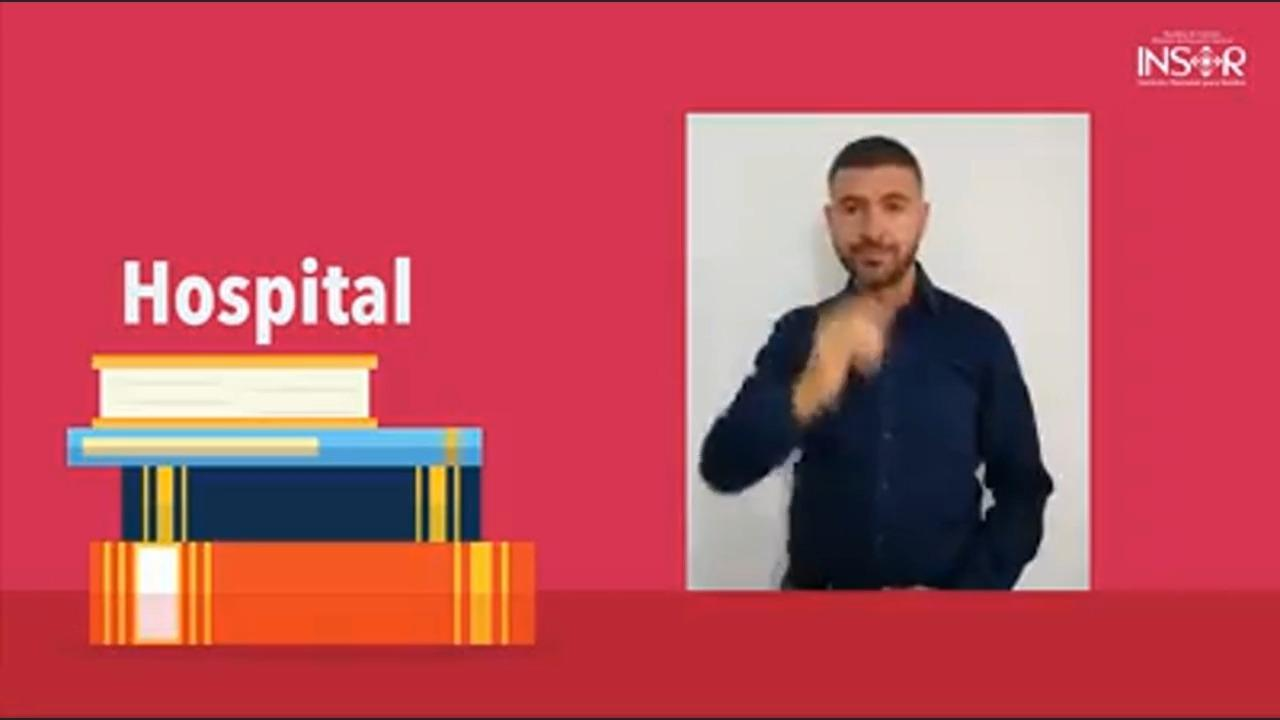Hospital: (700, 114, 1077, 526)
